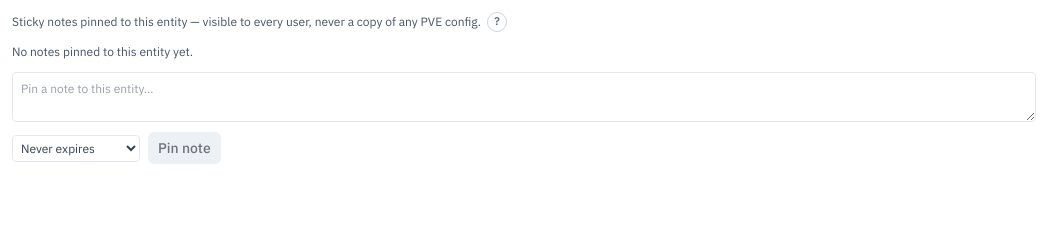
Test: AnnotationsSection › pins a note with the chosen expiry, sending an absolute instant the daemon judges on each read
The width and height of the screenshot is (1048, 235).
Type "temporary uplink" into the text box with placeholder "Pin a note to this entity…" at (524, 97), box [12,72,1036,122]
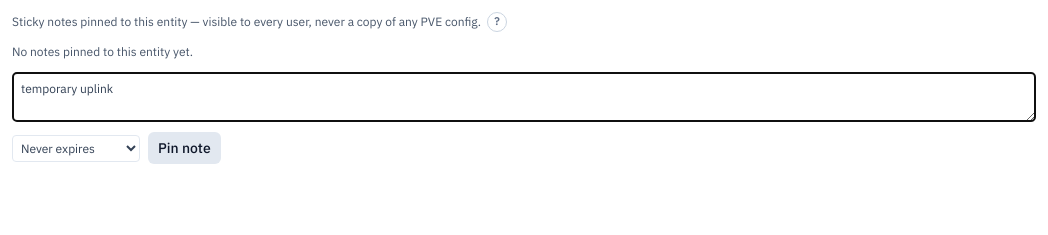
Select "Expires in 7 days" in the dropdown named "Note expiry" at (76, 148), box [12,134,140,162]
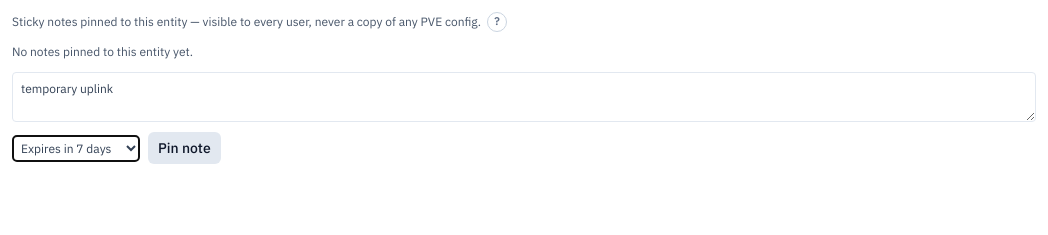
Click the button "Pin note" at (184, 148), box [148,132,221,164]
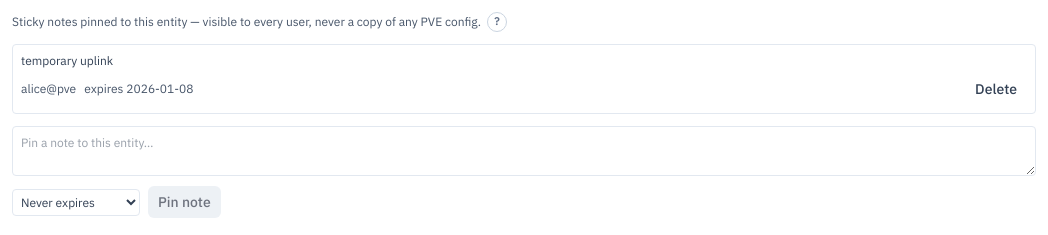
Check: the text "temporary uplink" is shown, box [21,53,113,68]
